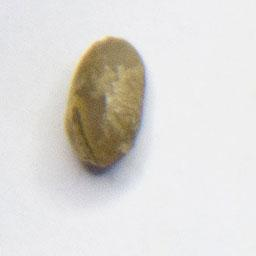peaberry: (61, 32, 151, 172)
